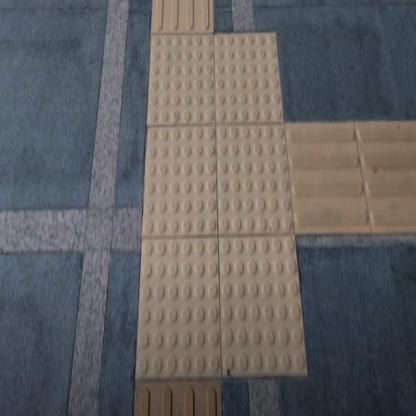podotacti: (116, 1, 324, 395), (296, 118, 416, 241), (133, 383, 223, 415), (152, 0, 214, 34)
